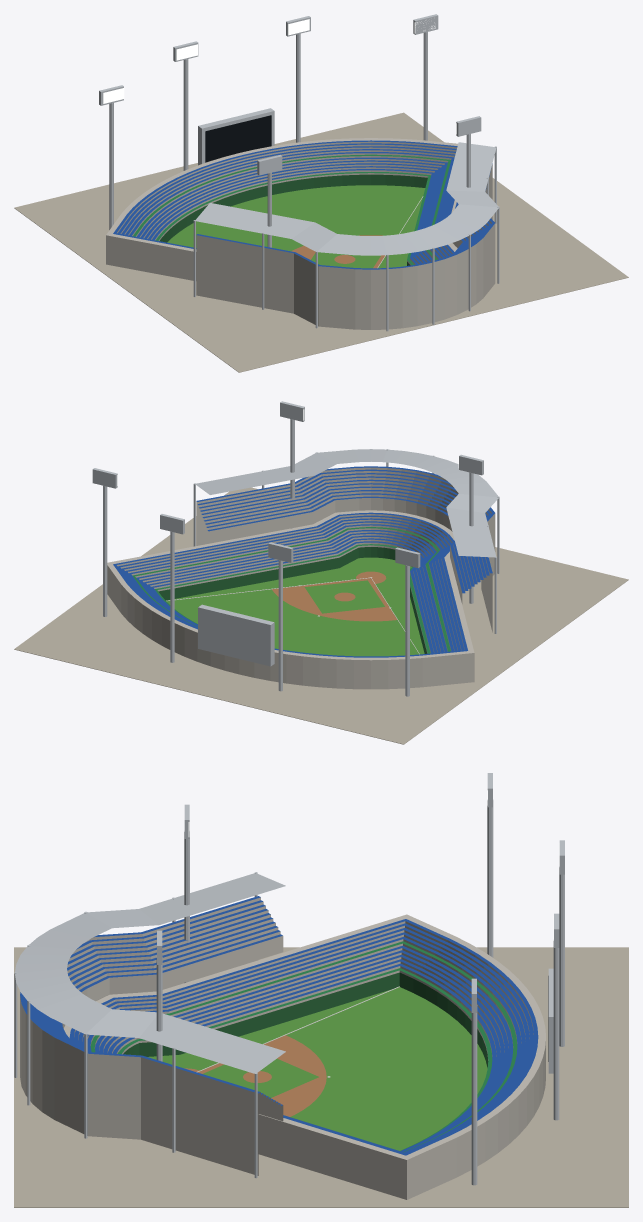
Rendered from ballpark.glb.
3 views of the same model, one above another, from view 1: azimuth 30°, elevation 25°; view 2: azimuth 150°, elevation 25°; view 3: azimuth 270°, elevation 25° (orthographic). The views are drawn at different scales.
Visible parts, largest first — view 1: Ballpark_static; view 2: Ballpark_static; view 3: Ballpark_static.
Part boxes in pixels (x1=…): Ballpark_static: x1=14, y1=14, x2=628, y2=372; Ballpark_static: x1=14, y1=401, x2=628, y2=744; Ballpark_static: x1=14, y1=773, x2=628, y2=1207.
Bounding box in the file's own units: 118 × 41.99 × 118.
